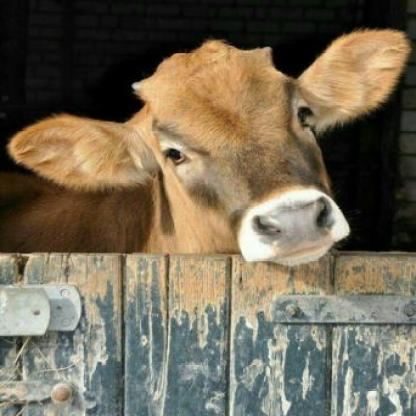lower: (270, 252, 335, 264)
mouth: (238, 192, 352, 268)
upper: (250, 211, 340, 245)
